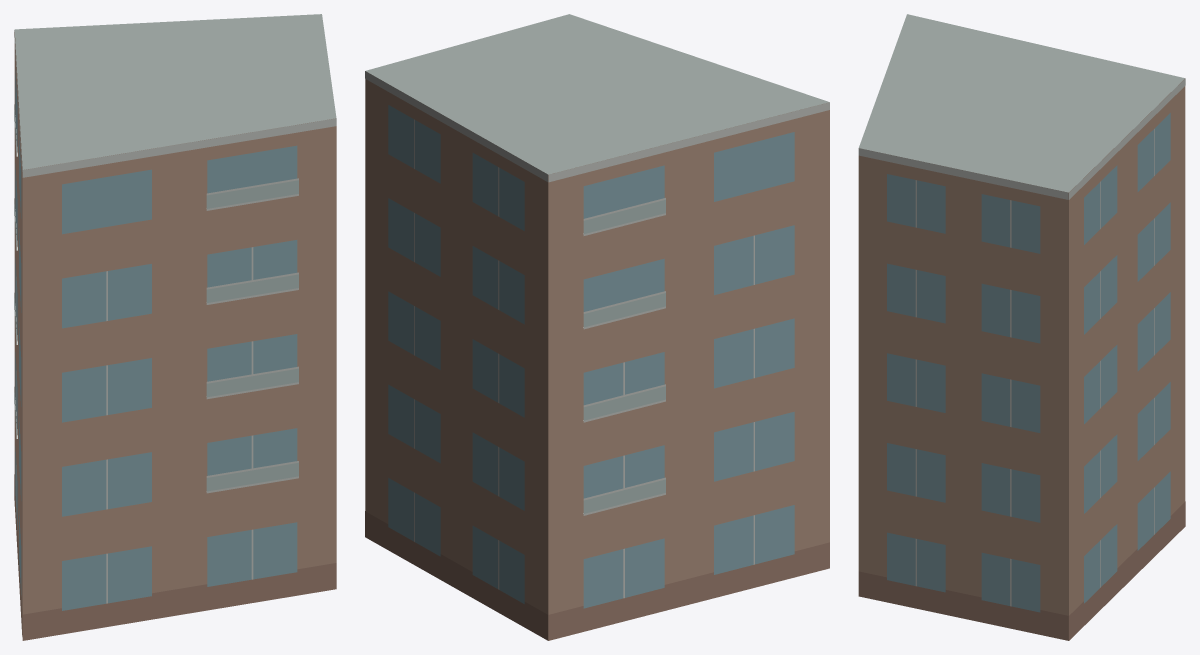
Rendered from survey-upis-32725314.glb.
3 renders of one model, left to right at view 1: azimuth 30°, elevation 25°; view 2: azimuth 150°, elevation 25°; view 3: azimuth 270°, elevation 25°, orthographic. The views are drawn at different scales.
Visible parts, largest first — view 1: survey-upis-32725314.tmp; view 2: survey-upis-32725314.tmp; view 3: survey-upis-32725314.tmp.
Part boxes in pixels (<box>): survey-upis-32725314.tmp: <box>14,14,336,640</box>; survey-upis-32725314.tmp: <box>365,14,829,640</box>; survey-upis-32725314.tmp: <box>858,14,1185,640</box>.
Bounding box in the file's own units: 12.48 × 14.6 × 9.65.
